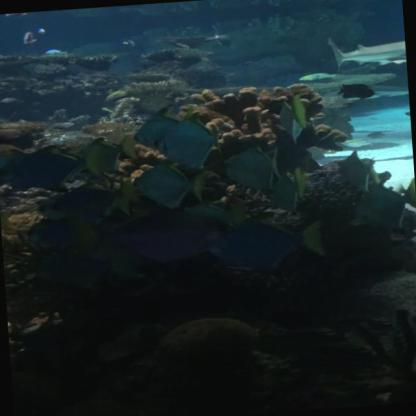fish: (199, 209, 333, 282), (110, 203, 234, 270), (134, 153, 218, 212), (30, 182, 126, 228), (154, 110, 226, 170), (30, 244, 110, 298), (340, 177, 415, 233), (17, 211, 103, 254), (19, 142, 93, 190), (323, 148, 393, 195), (224, 139, 292, 186), (262, 164, 316, 214), (72, 132, 130, 178), (128, 112, 188, 153), (0, 142, 47, 184), (268, 103, 314, 142), (201, 30, 238, 49), (10, 31, 50, 48), (119, 37, 140, 48)
shark: (327, 33, 407, 70)
